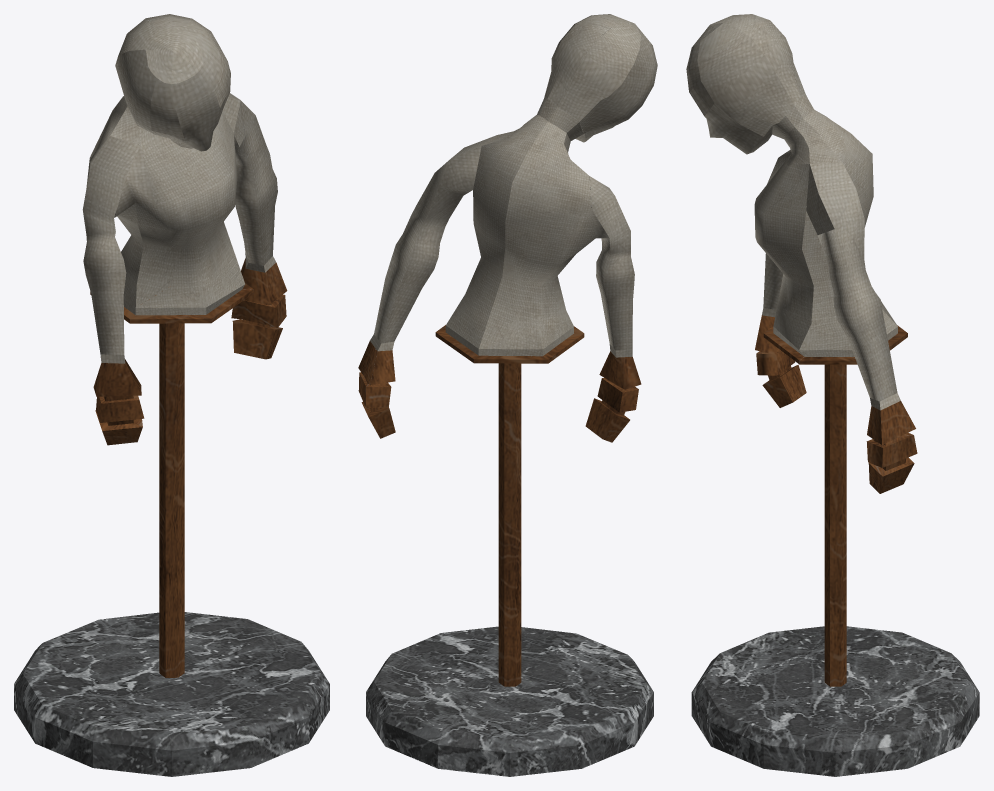
The model's file is Mannequin.fbx.
3 views of the same model, side by side, from view 1: azimuth 30°, elevation 25°; view 2: azimuth 150°, elevation 25°; view 3: azimuth 270°, elevation 25° (orthographic). The views are drawn at different scales.
Visible parts, largest first — view 1: Mannequin; view 2: Mannequin; view 3: Mannequin.
Part boxes in pixels (left/top/right/bottom): Mannequin: left=14, top=14, right=329, bottom=776; Mannequin: left=358, top=14, right=657, bottom=776; Mannequin: left=686, top=14, right=979, bottom=776.
Size of the model in its own units: 0.5076 by 1.29 by 0.5094.
